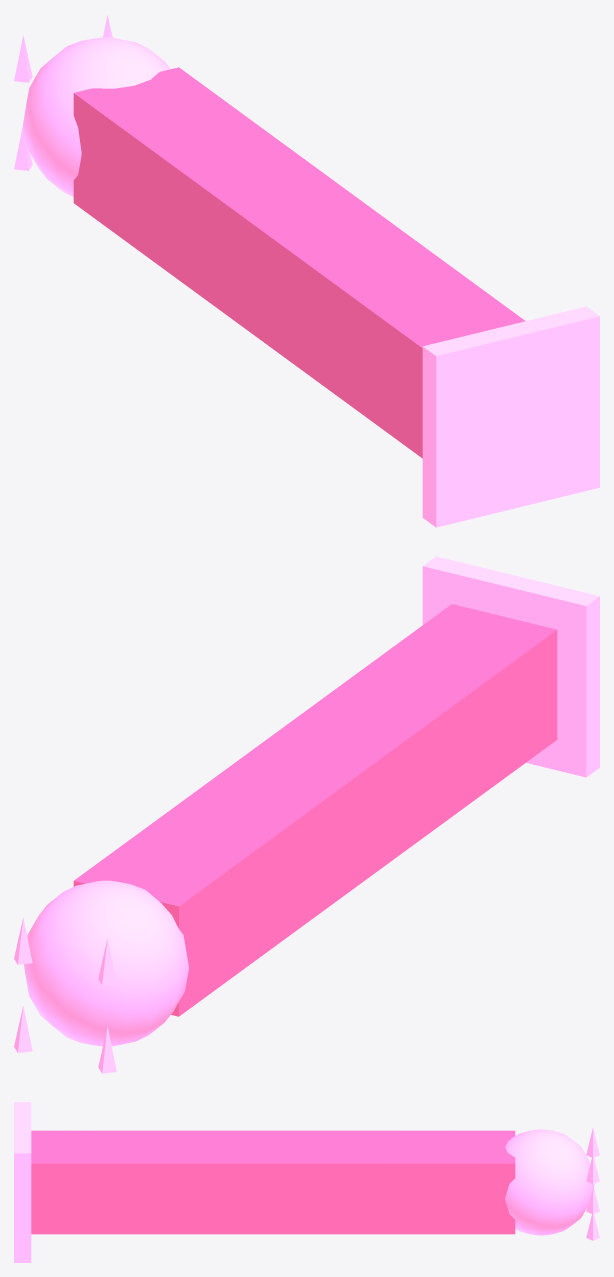
File: poi_pillar_pink.glb
The picture shows the model from 3 angles, top to bottom: view 1: azimuth 30°, elevation 25°; view 2: azimuth 150°, elevation 25°; view 3: azimuth 270°, elevation 25°; orthographic projection. The views are drawn at different scales.
Parts seen in each view (by area): view 1: poi_pillar_pink_root; view 2: poi_pillar_pink_root; view 3: poi_pillar_pink_root.
Part boxes in pixels (box(x1,y1,x2,y2)): poi_pillar_pink_root: box(14, 15, 599, 527); poi_pillar_pink_root: box(14, 556, 599, 1073); poi_pillar_pink_root: box(14, 1102, 599, 1262).
Size of the model in its own units: 2.5 by 2.5 by 12.11.
